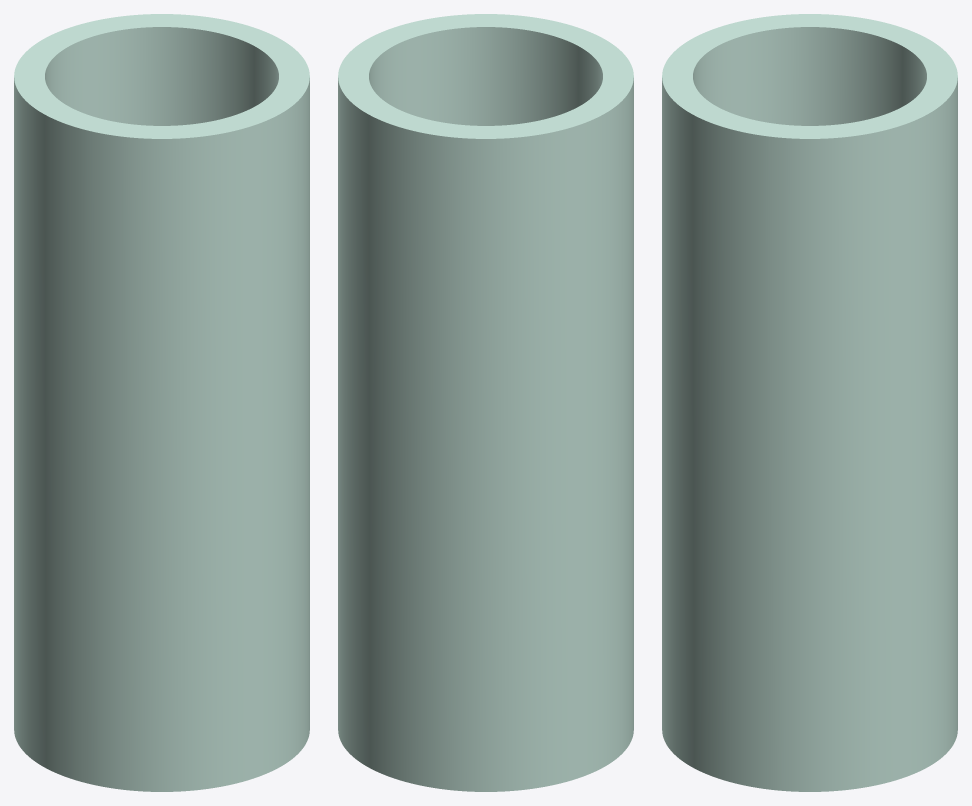
3 renders of one model, left to right at view 1: azimuth 30°, elevation 25°; view 2: azimuth 150°, elevation 25°; view 3: azimuth 270°, elevation 25°, orthographic.
Visible parts, largest first — view 1: Renderer Node; view 2: Renderer Node; view 3: Renderer Node.
Part boxes in pixels (left/top/right/bottom): Renderer Node: left=14, top=14, right=309, bottom=791; Renderer Node: left=338, top=14, right=633, bottom=791; Renderer Node: left=662, top=14, right=957, bottom=791.
Size of the model in its own units: 0.3078 by 0.75 by 0.3079.
